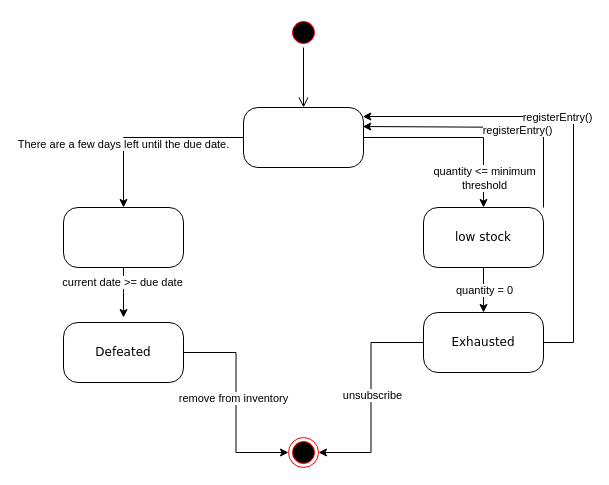
Some shapes in this 609 by 485 pixel diagram are drawn without their labels. Here are the shapes that lost their labels. From the top down, the centre of each, then its label:
the point at 303,137: available
the point at 123,237: Due Soon
